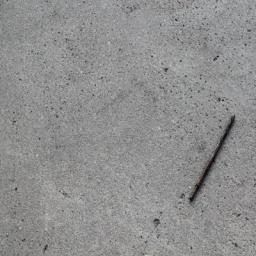FOD: (187, 109, 237, 204)
